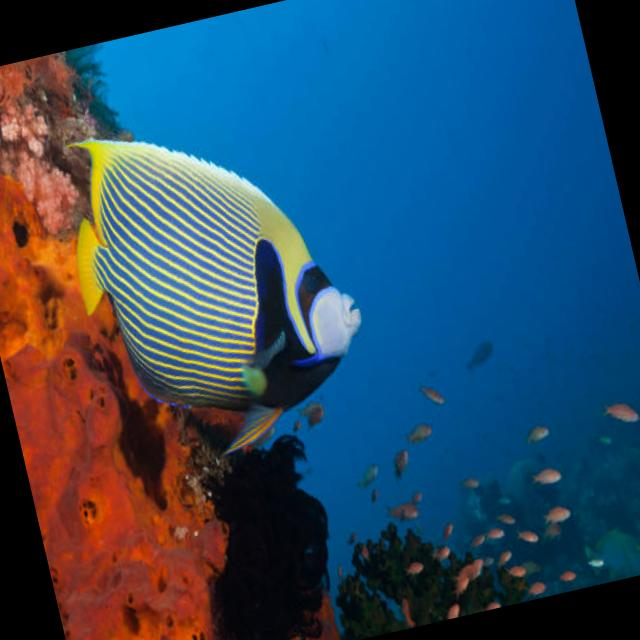AngelFish: (47, 86, 384, 482)
